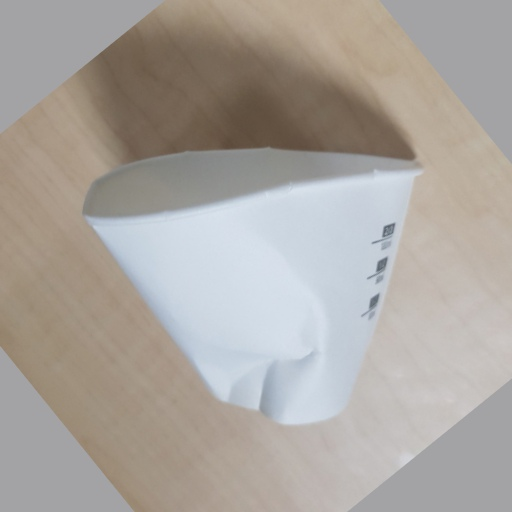Paper_1: (81, 144, 424, 423)
